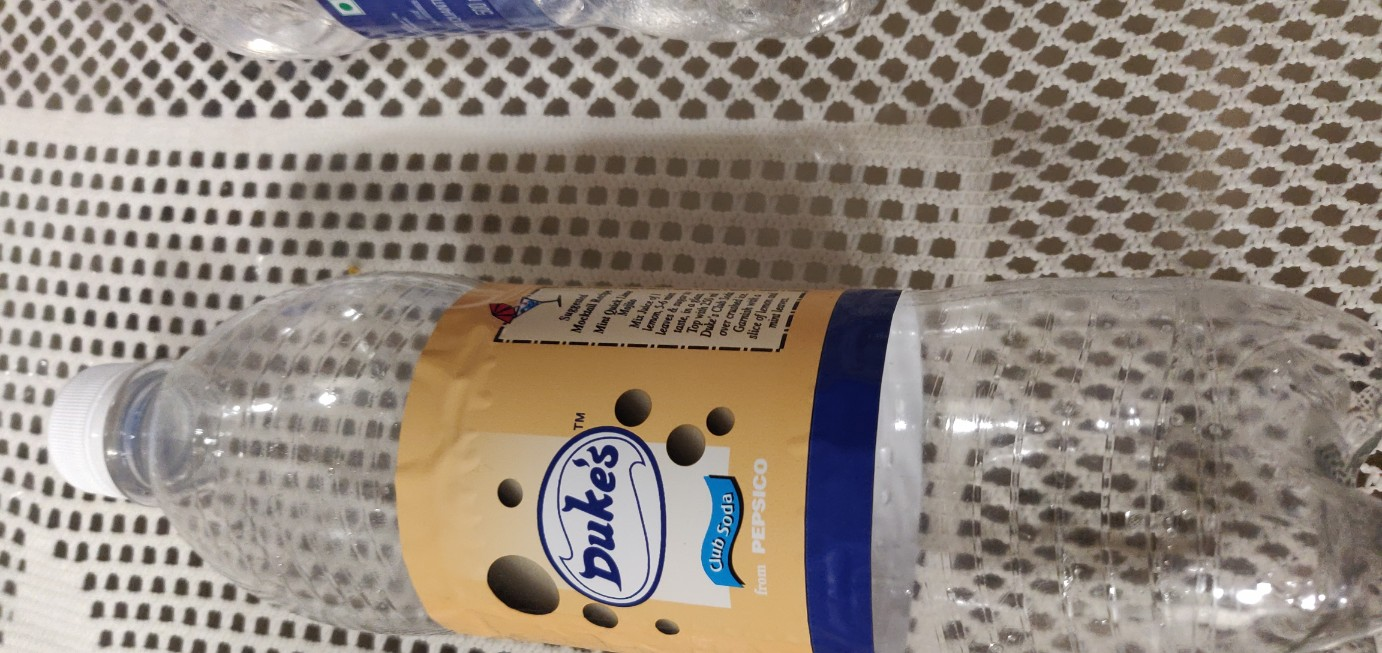Electronics: (35, 242, 1382, 653)
